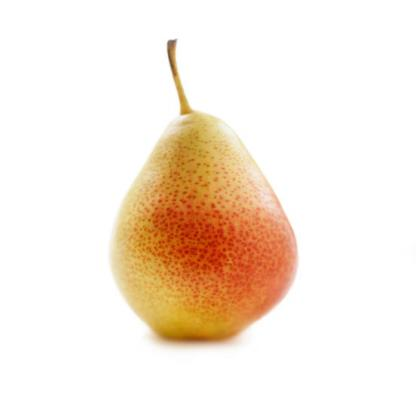Paer: (97, 30, 311, 346)
